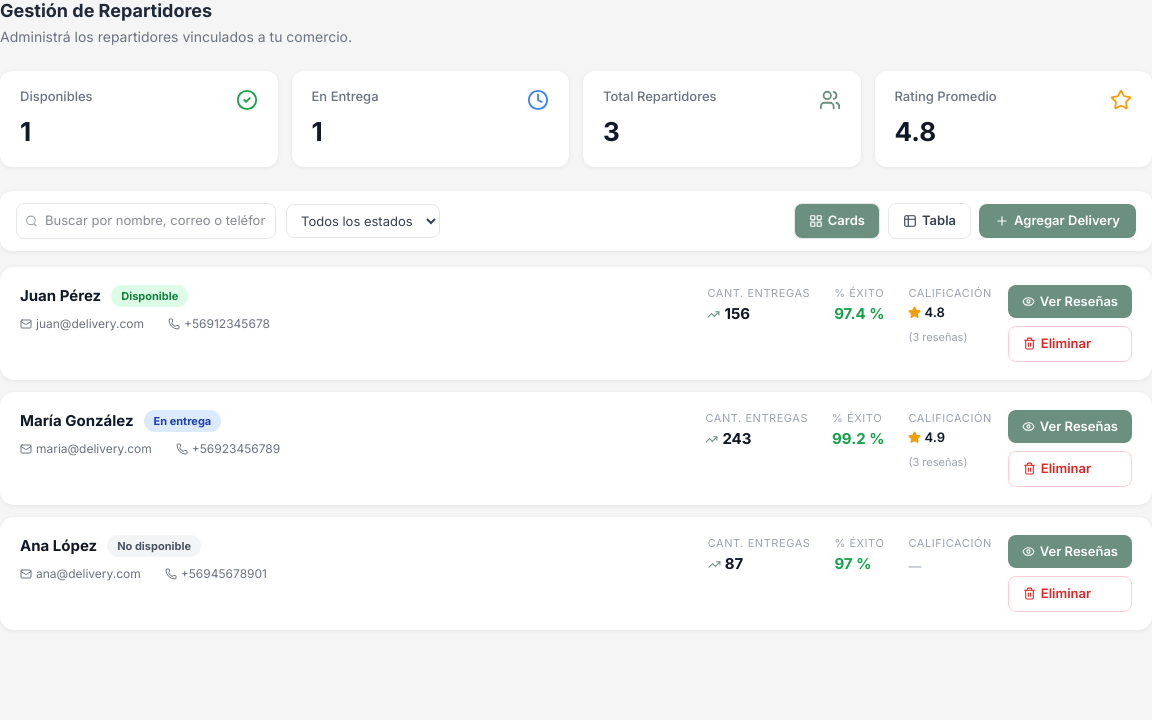
it: CommerceDeliveriesPage › Modal de eliminación › cierra el modal al hacer clic en Cancelar
This screenshot has width=1152, height=720.
Step 1. Click the button "Eliminar" in the row of "+56912345678" → (1070,344), box [1008,326,1132,362]
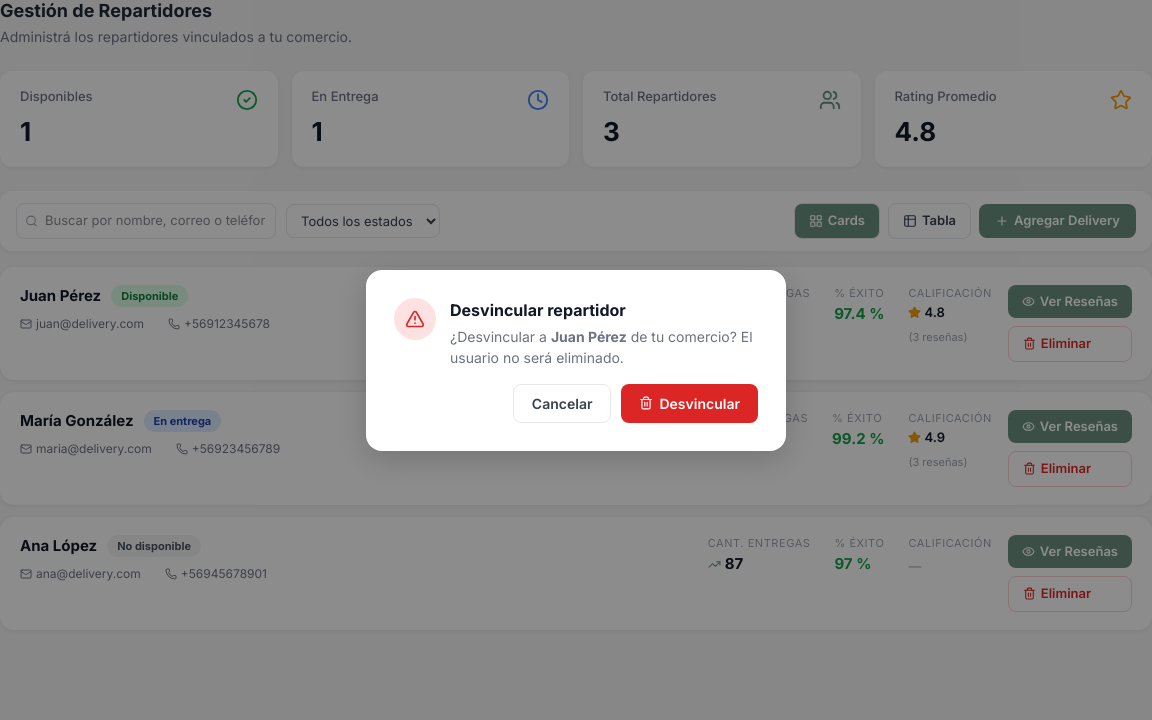
Now the text "Desvincular repartidor" is shown, box [450,300,626,320]
Step 2. Click the button "Cancelar" → (562,403), box [513,384,612,422]
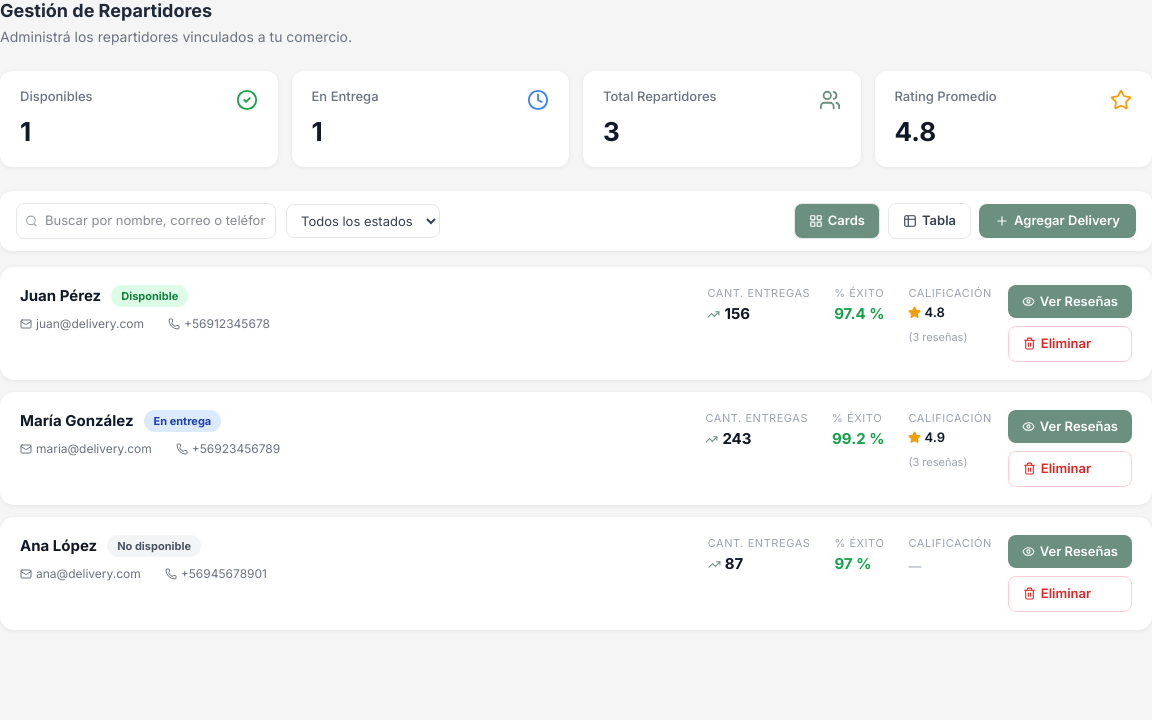
Now the text "Desvincular repartidor" is gone
